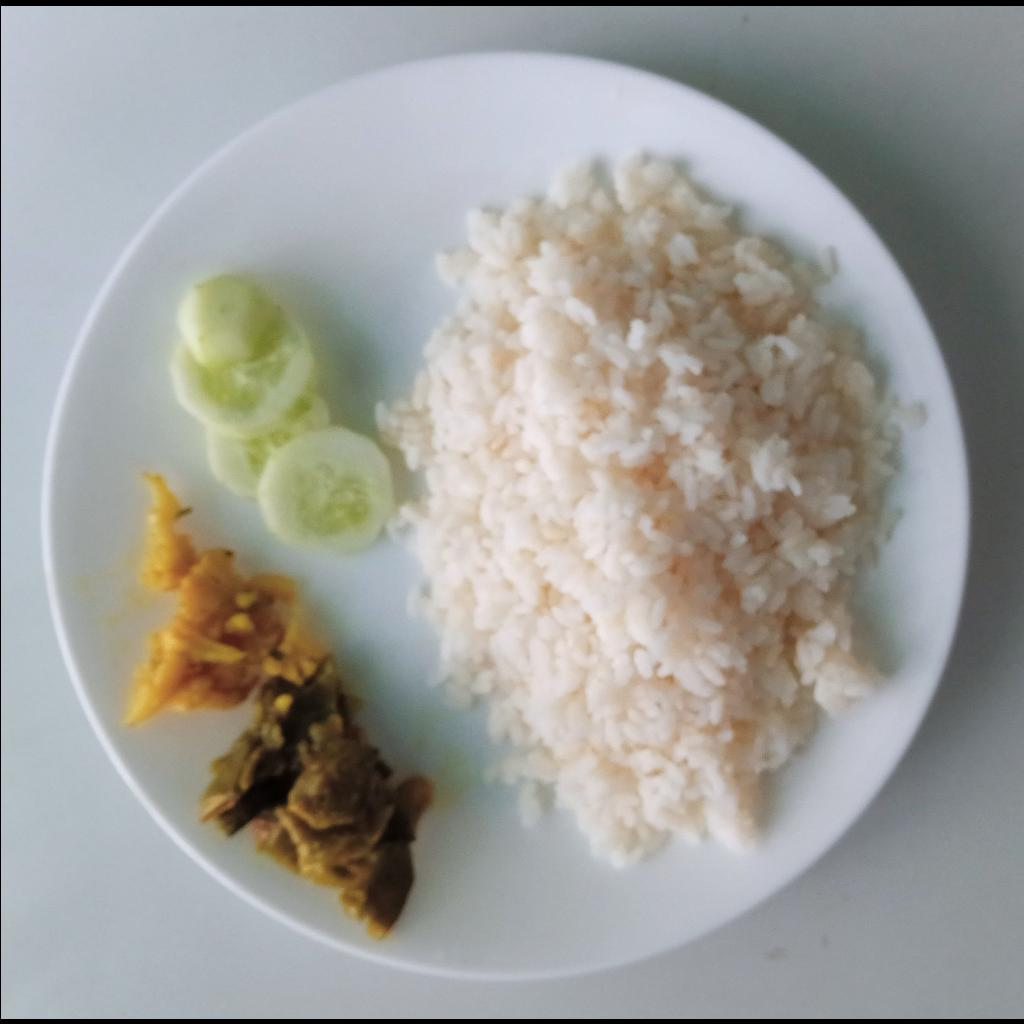cauliflower: (117, 468, 324, 726)
cucumber: (169, 271, 394, 564)
rice: (374, 152, 929, 870)
shim: (195, 664, 429, 939)
